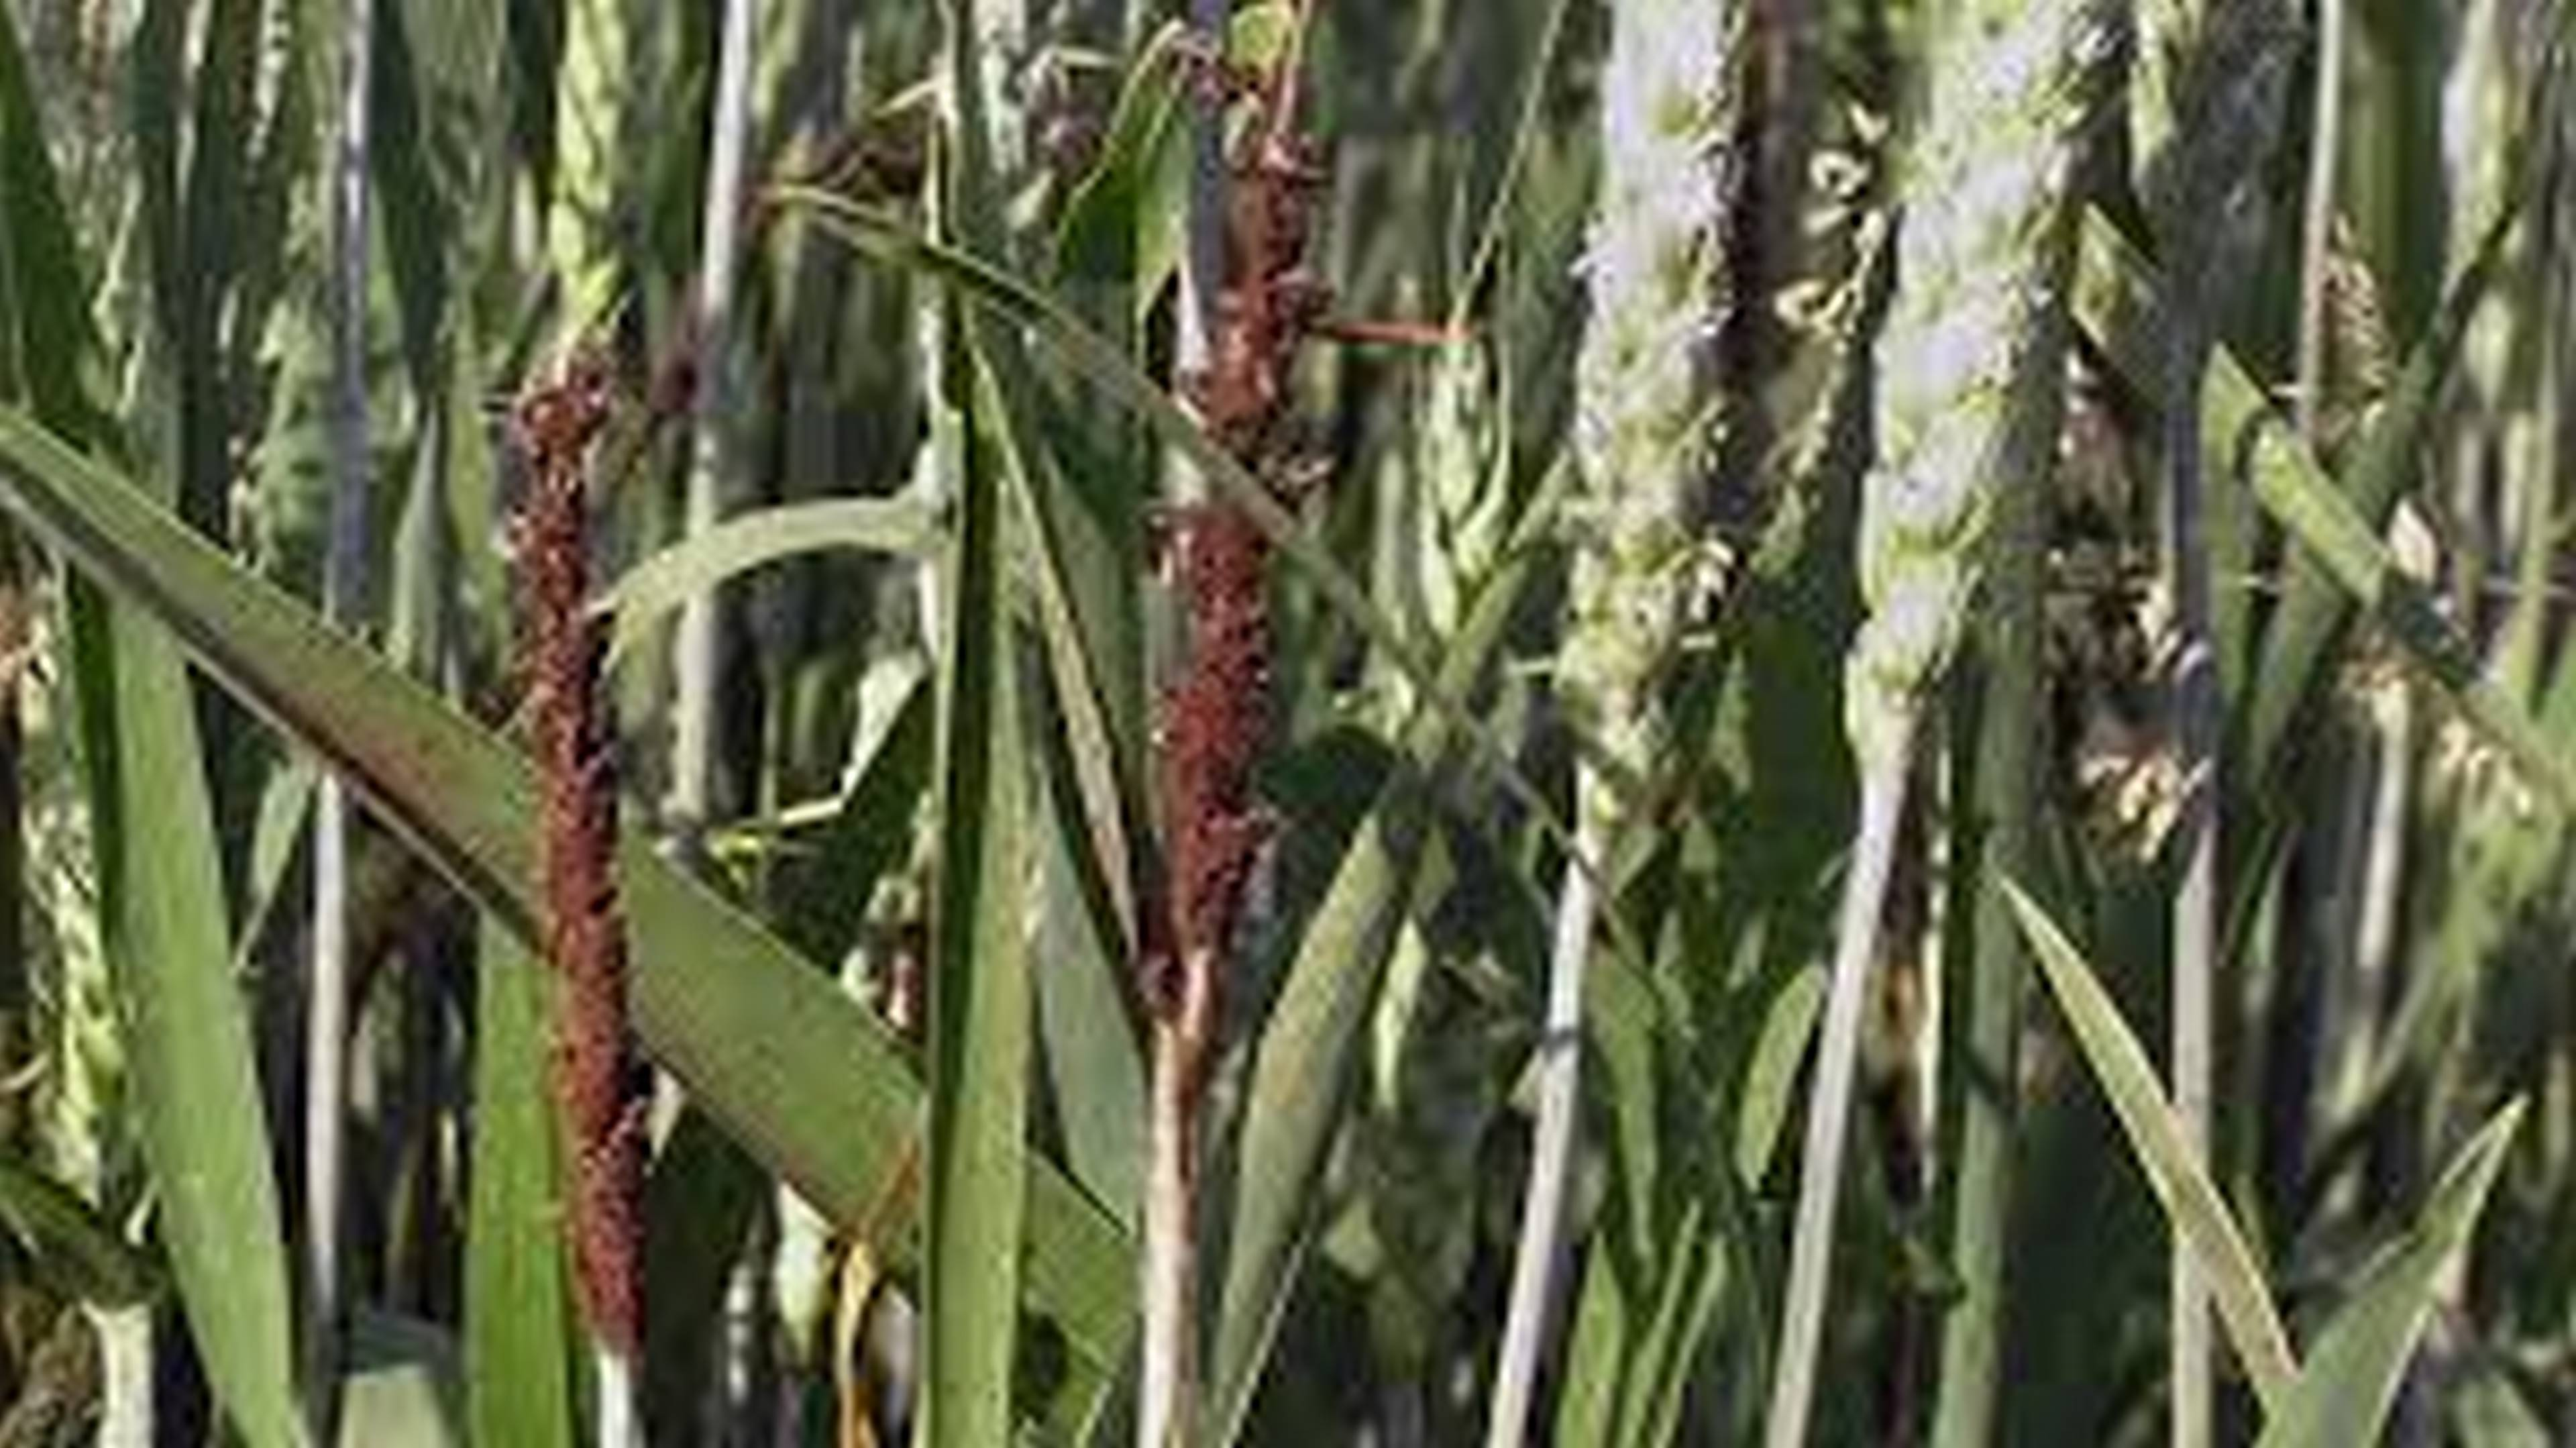Wheat Loose Smut: (472, 382, 704, 1345), (1152, 73, 1373, 970)
